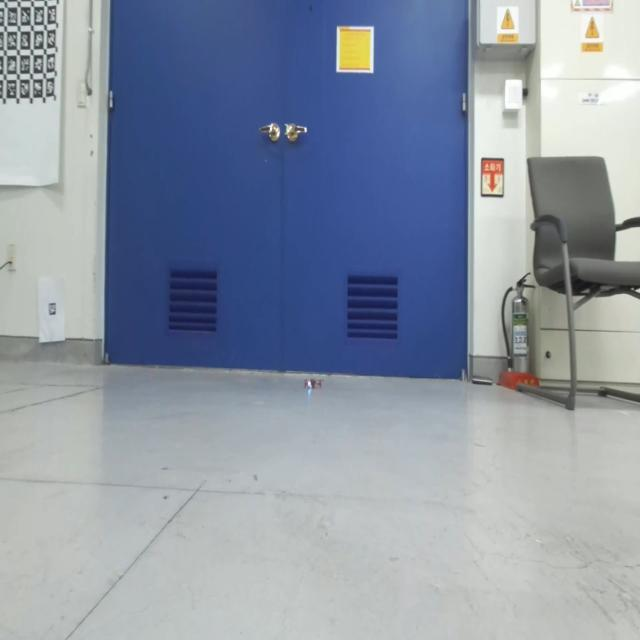crazyflie: (301, 372, 324, 396)
